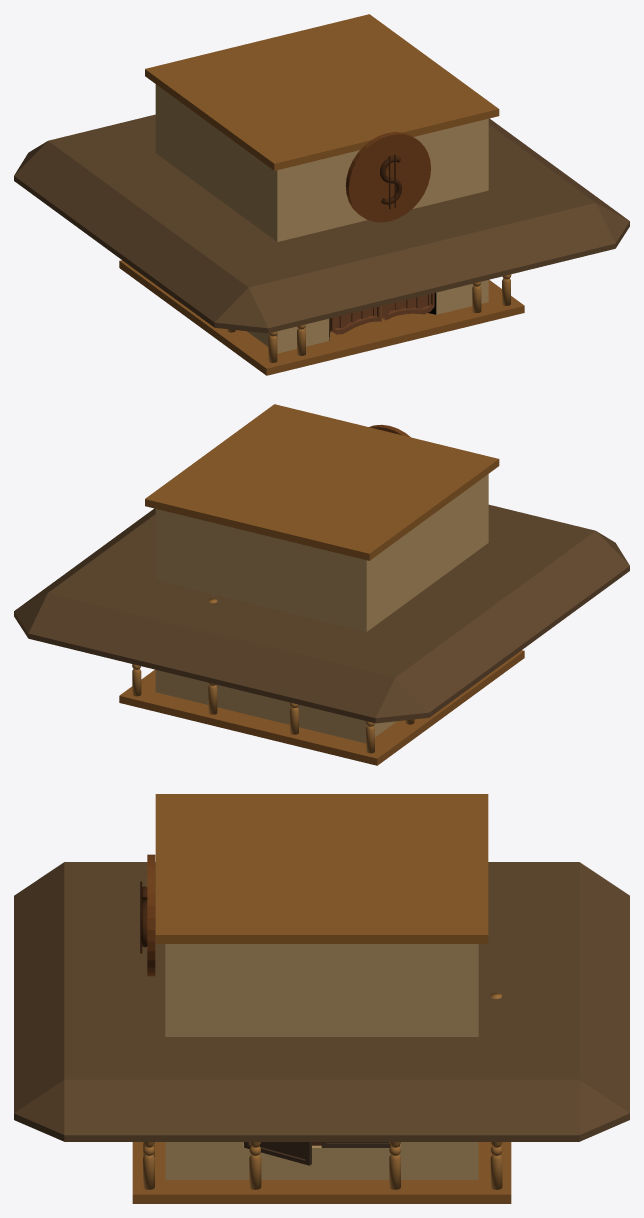
Rendered from Banco.fbx.
3 renders of one model, top to bottom at view 1: azimuth 30°, elevation 25°; view 2: azimuth 150°, elevation 25°; view 3: azimuth 270°, elevation 25°, orthographic. The views are drawn at different scales.
Parts seen in each view (by area): view 1: Banco, Teto, Chao, Circle, Porta, Torus.001; view 2: Banco, Teto, Chao; view 3: Banco, Teto, Chao, Circle, Cube.004, Cylinder.004, Cylinder.009.
Part boxes in pixels (x1,y1,x2,y2): Banco: (14,84,629,353); Teto: (145,14,499,170); Chao: (119,260,524,375); Circle: (345,132,430,222); Porta: (329,293,434,334); Torus.001: (380,154,401,209); Banco: (14,474,629,743); Teto: (145,404,499,560); Chao: (119,650,524,765); Banco: (14,862,629,1179); Teto: (155,794,488,943); Chao: (132,1142,511,1203); Circle: (147,854,155,976); Cube.004: (244,1142,311,1165); Cylinder.004: (490,1142,502,1189); Cylinder.009: (249,1142,261,1189).
Bounding box in the file's own units: 4178 × 1967 × 4179.
